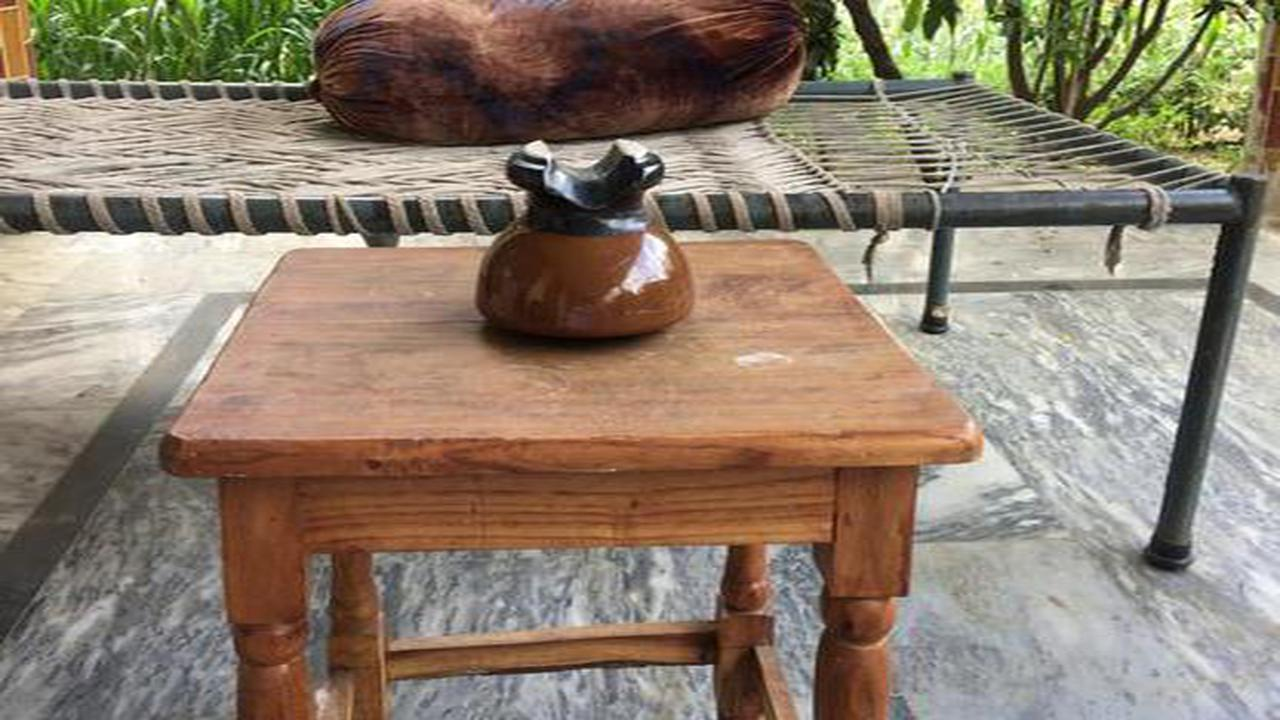insulator_pin: (444, 116, 733, 367)
